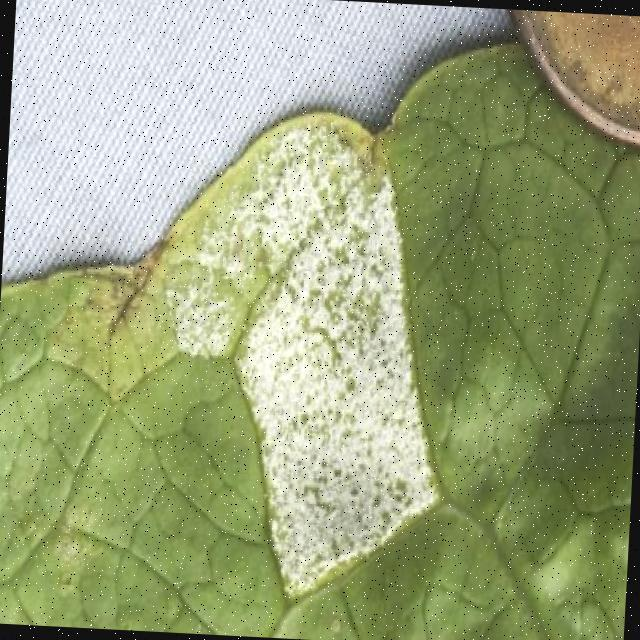Powdery_mildew_on_lettuce: (208, 156, 467, 625)
